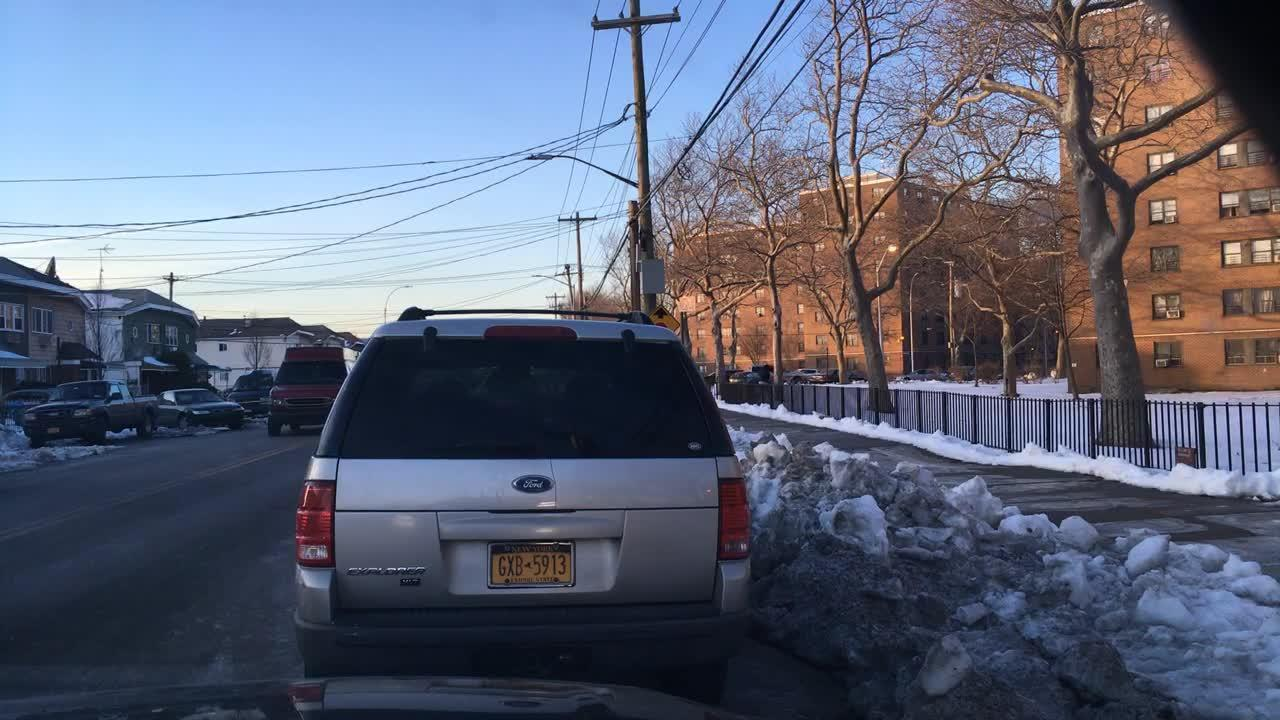ford: (509, 468, 565, 505)
